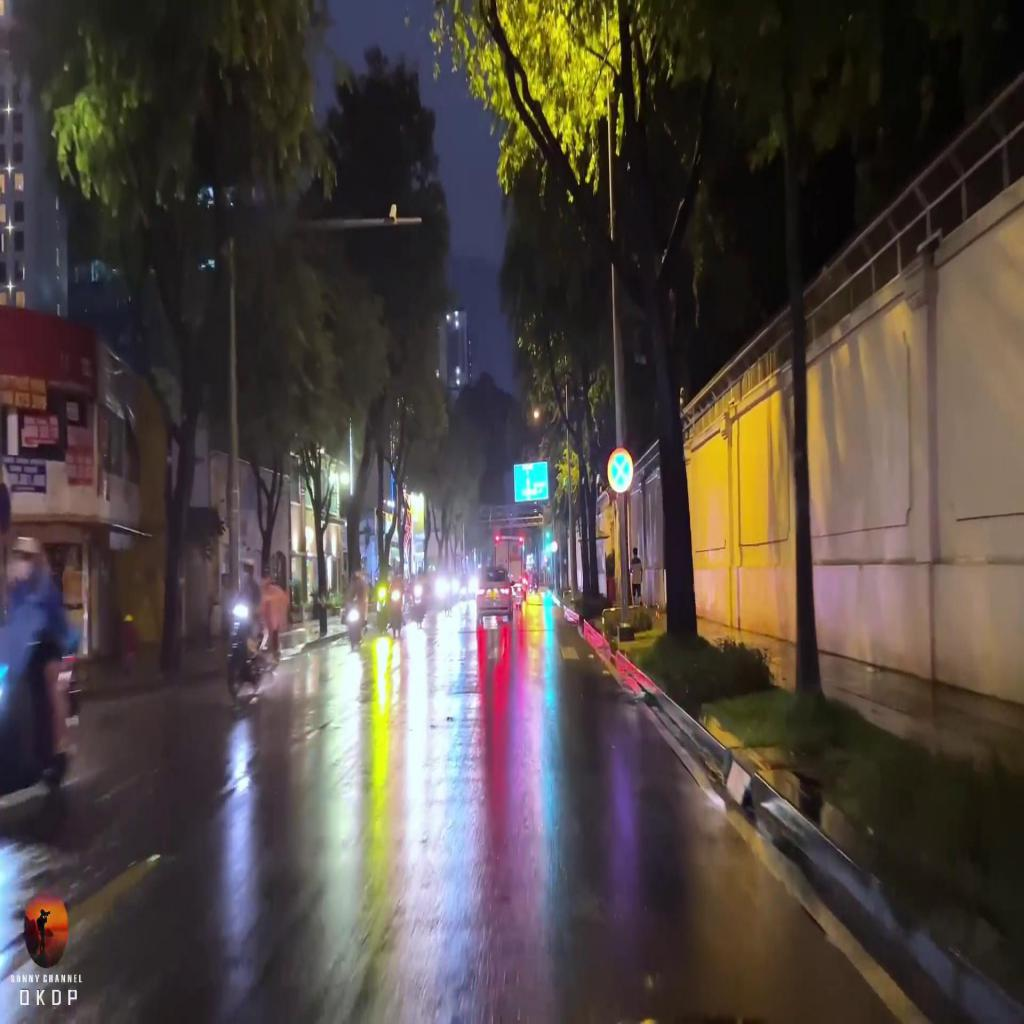cam_dung_xe_va_do_xe: (608, 448, 633, 491)
khac: (515, 462, 548, 500)
